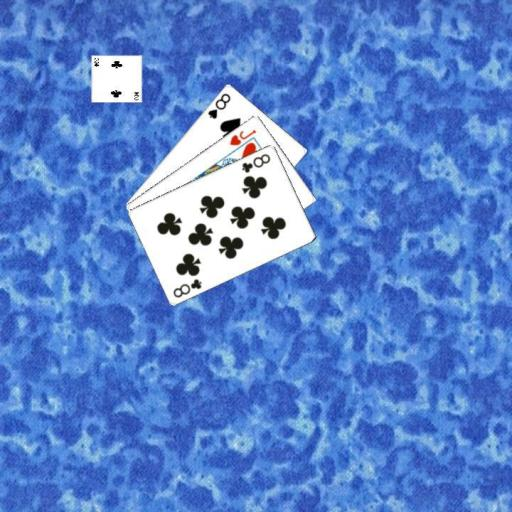8C: (238, 150, 272, 174), (170, 275, 203, 299)
8S: (204, 90, 232, 120)
JH: (226, 126, 258, 146)
